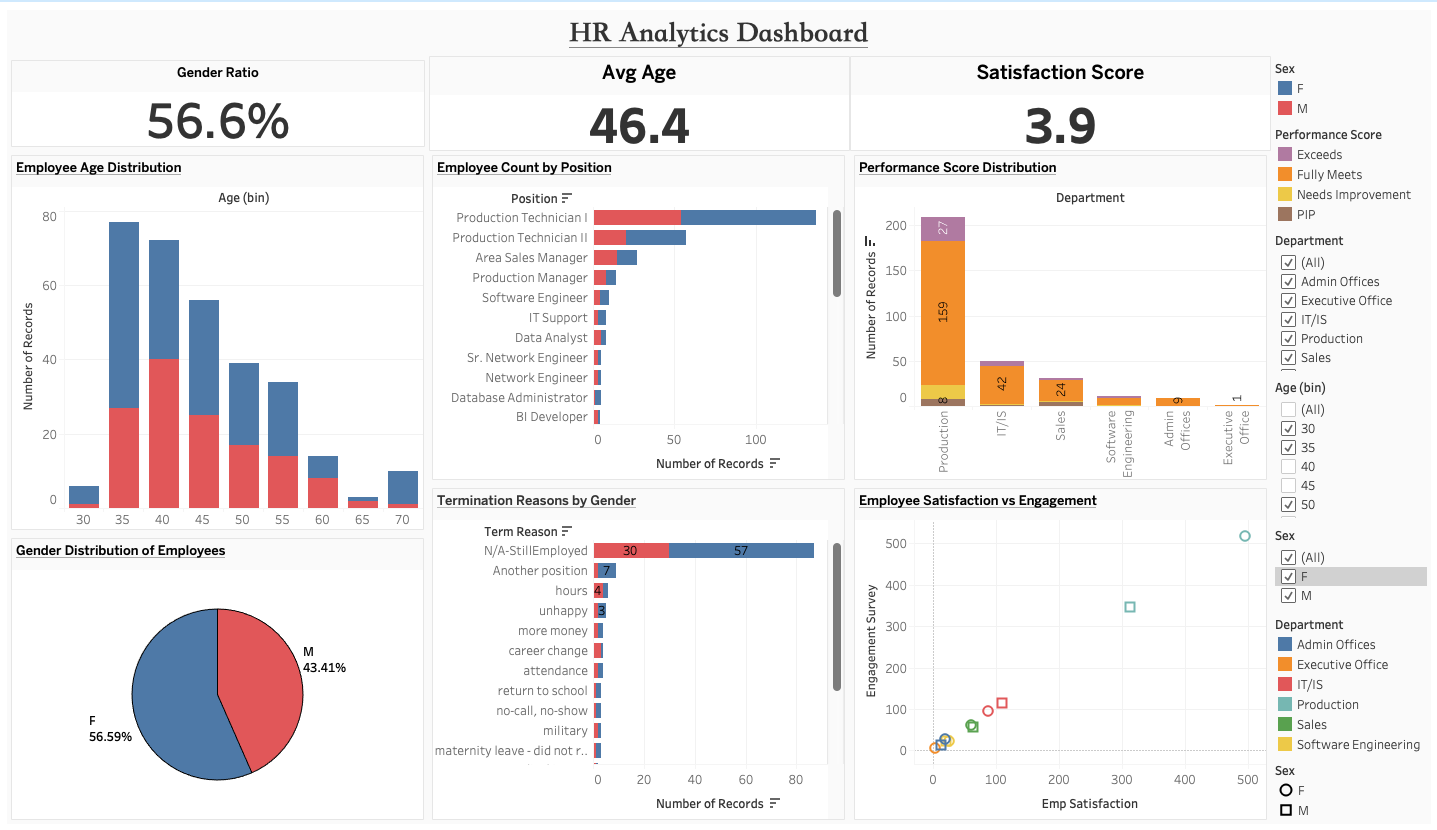

This screenshot's page, from the dashboard's own definition file:
{"tool":"tableau","page":{"name":"HR Analytics Dashboard","canvas":[1000,1000],"units":"permille","ordinal":0},"visuals":[{"type":"title","box":[6.5,10.4,987,59.9]},{"type":"worksheet","title":"% Female/Male Employees","mark":"Automatic","box":[6.5,70.3,285.6,113.3]},{"type":"worksheet","title":"Average Age","mark":"Automatic","box":[292.1,70.3,285.6,113.3]},{"type":"worksheet","title":"Average Satisfaction Score","mark":"Automatic","box":[577.7,70.3,285.6,113.3]},{"type":"legend","title":"Age Distribution","param":"[federated.1lf53w50v4md4e1bgvsnb11zqfxh].[none:Sex:nk]","box":[863.3,70.3,130.2,85.9]},{"type":"legend","title":"Performance Score Distribution","param":"[federated.1lf53w50v4md4e1bgvsnb11zqfxh].[none:PerformanceScore:nk]","box":[863.3,156.3,130.2,138]},{"type":"worksheet","title":"Age Distribution","mark":"Automatic","rows":["Calculation_290060029998358529"],"cols":["Age (bin)"],"box":[6.5,184.1,285.6,498.7]},{"type":"worksheet","title":"Employee Count by Position","mark":"Automatic","rows":["Position"],"cols":["Calculation_290060029998358529"],"box":[292.1,184.1,285.6,399.1]},{"type":"worksheet","title":"Performance Score Distribution","mark":"Automatic","rows":["Calculation_290060029998358529"],"cols":["Department"],"box":[577.6,184.1,285.7,399.1]},{"type":"filter","title":"Termination Reasons by Gender","param":"[federated.1lf53w50v4md4e1bgvsnb11zqfxh].[none:Department:nk]","box":[863.3,294.3,130.2,164.5]},{"type":"filter","title":"Termination Reasons by Gender","param":"[federated.1lf53w50v4md4e1bgvsnb11zqfxh].[none:Age (bin):ok]","box":[863.3,458.8,130.2,164.5]},{"type":"worksheet","title":"Termination Reasons by Gender","mark":"Bar","rows":["TermReason"],"cols":["Calculation_290060029998358529"],"box":[292.1,583.1,285.6,406.5]},{"type":"worksheet","title":"Employee Satisfaction vs Engagement","mark":"Automatic","rows":["EngagementSurvey"],"cols":["EmpSatisfaction"],"box":[577.6,583.1,285.7,406.5]},{"type":"filter","title":"Termination Reasons by Gender","param":"[federated.1lf53w50v4md4e1bgvsnb11zqfxh].[none:Sex:nk]","box":[863.3,623.3,130.2,115.9]},{"type":"worksheet","title":"Gender Distribution","mark":"Pie","box":[6.5,682.8,285.6,306.8]},{"type":"legend","title":"Employee Satisfaction vs Engagement","param":"[federated.1lf53w50v4md4e1bgvsnb11zqfxh].[none:Department:nk]","box":[863.3,739.1,130.2,164.5]},{"type":"legend","title":"Employee Satisfaction vs Engagement","param":"[federated.1lf53w50v4md4e1bgvsnb11zqfxh].[none:Sex:nk]","box":[863.3,903.6,130.2,85.9]}]}

Visuals, with their boxes on the dashboard's canvas, which has no fixed pixel size, in thousandths of its width and height (x1, y1, x2, y2). These are canvas units, not pixel positions in the 1437x830 screenshot, which may show the page scaled, cropped or inside an application window:
title: select_region(6, 10, 994, 70)
"% Female/Male Employees" worksheet: select_region(6, 70, 292, 184)
"Average Age" worksheet: select_region(292, 70, 578, 184)
"Average Satisfaction Score" worksheet: select_region(578, 70, 863, 184)
"Age Distribution" legend: select_region(863, 70, 994, 156)
"Performance Score Distribution" legend: select_region(863, 156, 994, 294)
"Age Distribution" worksheet: select_region(6, 184, 292, 683)
"Employee Count by Position" worksheet: select_region(292, 184, 578, 583)
"Performance Score Distribution" worksheet: select_region(578, 184, 863, 583)
"Termination Reasons by Gender" filter: select_region(863, 294, 994, 459)
"Termination Reasons by Gender" filter: select_region(863, 459, 994, 623)
"Termination Reasons by Gender" worksheet (Bar marks): select_region(292, 583, 578, 990)
"Employee Satisfaction vs Engagement" worksheet: select_region(578, 583, 863, 990)
"Termination Reasons by Gender" filter: select_region(863, 623, 994, 739)
"Gender Distribution" worksheet (Pie marks): select_region(6, 683, 292, 990)
"Employee Satisfaction vs Engagement" legend: select_region(863, 739, 994, 904)
"Employee Satisfaction vs Engagement" legend: select_region(863, 904, 994, 990)
